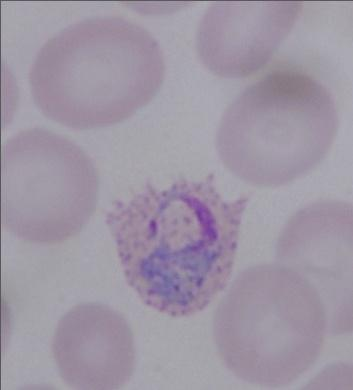Infected: (106, 177, 252, 317)
Uninfected: (32, 9, 167, 127), (214, 77, 339, 188), (218, 259, 320, 386), (3, 130, 102, 246), (278, 201, 353, 338), (198, 0, 296, 78), (51, 301, 136, 390)
